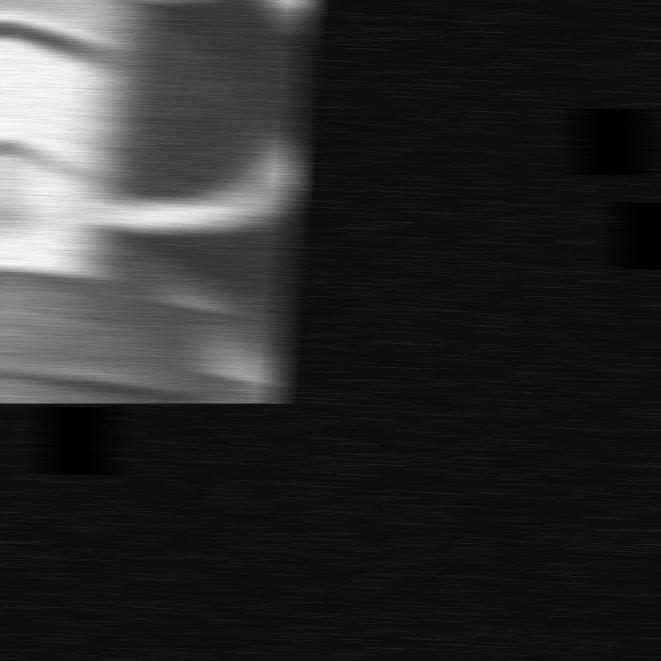Airbag: (0, 0, 315, 403)
